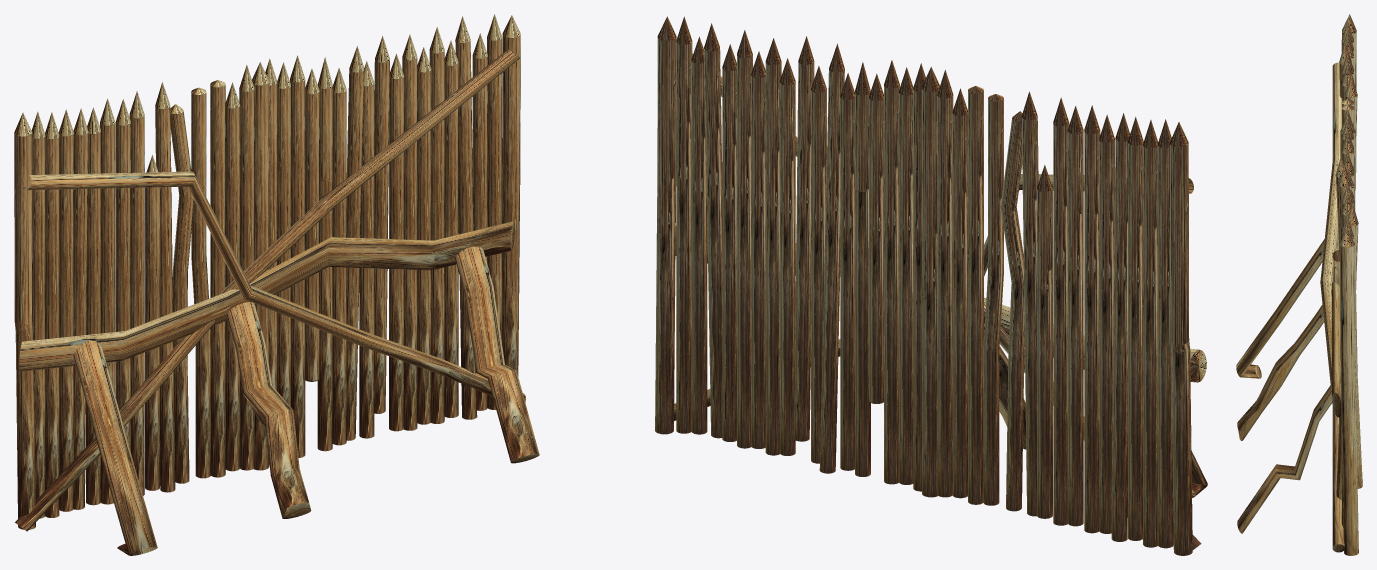
The model's file is mager.fbx.
The picture shows the model from 3 angles, left to right: view 1: azimuth 30°, elevation 25°; view 2: azimuth 150°, elevation 25°; view 3: azimuth 270°, elevation 25°; orthographic projection. The views are drawn at different scales.
Visible parts, largest first — view 1: Cylinder136, Cylinder134, Cylinder135, Cylinder107, Cylinder133, Cylinder100, Cylinder108, Cylinder106, Cylinder113, Cylinder099, Cylinder102, Cylinder109 (+26 smaller); view 2: Cylinder107, Cylinder133, Cylinder111, Cylinder132, Cylinder108, Cylinder100, Cylinder098, Cylinder104, Cylinder126, Cylinder116, Cylinder119, Cylinder125 (+24 smaller); view 3: Cylinder136, Cylinder133, Cylinder135, Cylinder126, Cylinder115, Cylinder123, Cylinder102, Cylinder107, Cylinder105, Cylinder132, Cylinder116, Cylinder134 (+4 smaller).
Boxes of the visible parts, bbox=[...] form: Cylinder136: bbox=[19, 221, 539, 555]; Cylinder134: bbox=[15, 49, 520, 531]; Cylinder135: bbox=[22, 171, 525, 402]; Cylinder107: bbox=[14, 112, 35, 529]; Cylinder133: bbox=[502, 15, 520, 375]; Cylinder100: bbox=[210, 80, 225, 477]; Cylinder108: bbox=[191, 87, 210, 478]; Cylinder106: bbox=[45, 112, 59, 517]; Cylinder113: bbox=[58, 109, 73, 511]; Cylinder099: bbox=[225, 82, 240, 471]; Cylinder102: bbox=[155, 82, 175, 492]; Cylinder109: bbox=[170, 104, 193, 483]; Cylinder107: bbox=[1170, 122, 1192, 555]; Cylinder133: bbox=[655, 16, 676, 434]; Cylinder111: bbox=[1067, 106, 1083, 526]; Cylinder132: bbox=[922, 67, 939, 497]; Cylinder108: bbox=[983, 94, 1003, 505]; Cylinder100: bbox=[968, 86, 983, 504]; Cylinder098: bbox=[937, 70, 953, 497]; Cylinder104: bbox=[1084, 105, 1100, 533]; Cylinder126: bbox=[819, 43, 844, 473]; Cylinder116: bbox=[676, 16, 692, 433]; Cylinder119: bbox=[898, 67, 913, 484]; Cylinder125: bbox=[779, 58, 795, 455]; Cylinder136: bbox=[1236, 232, 1341, 533]; Cylinder133: bbox=[1339, 228, 1358, 555]; Cylinder135: bbox=[1320, 62, 1344, 552]; Cylinder126: bbox=[1335, 156, 1362, 488]; Cylinder115: bbox=[1336, 204, 1358, 499]; Cylinder123: bbox=[1338, 165, 1358, 480]; Cylinder102: bbox=[1345, 75, 1357, 173]; Cylinder107: bbox=[1342, 14, 1356, 190]; Cylinder105: bbox=[1339, 43, 1357, 371]; Cylinder132: bbox=[1340, 115, 1355, 320]; Cylinder116: bbox=[1341, 218, 1353, 527]; Cylinder134: bbox=[1332, 250, 1339, 286].
Bounding box in the file's own units: 225 × 157 × 52.6.
